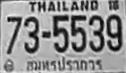3: (88, 14, 103, 51), (24, 16, 38, 52)
5: (52, 14, 68, 52), (70, 14, 86, 51)
7: (6, 16, 21, 54)
9: (106, 13, 122, 50)
SPK: (24, 55, 105, 72)
